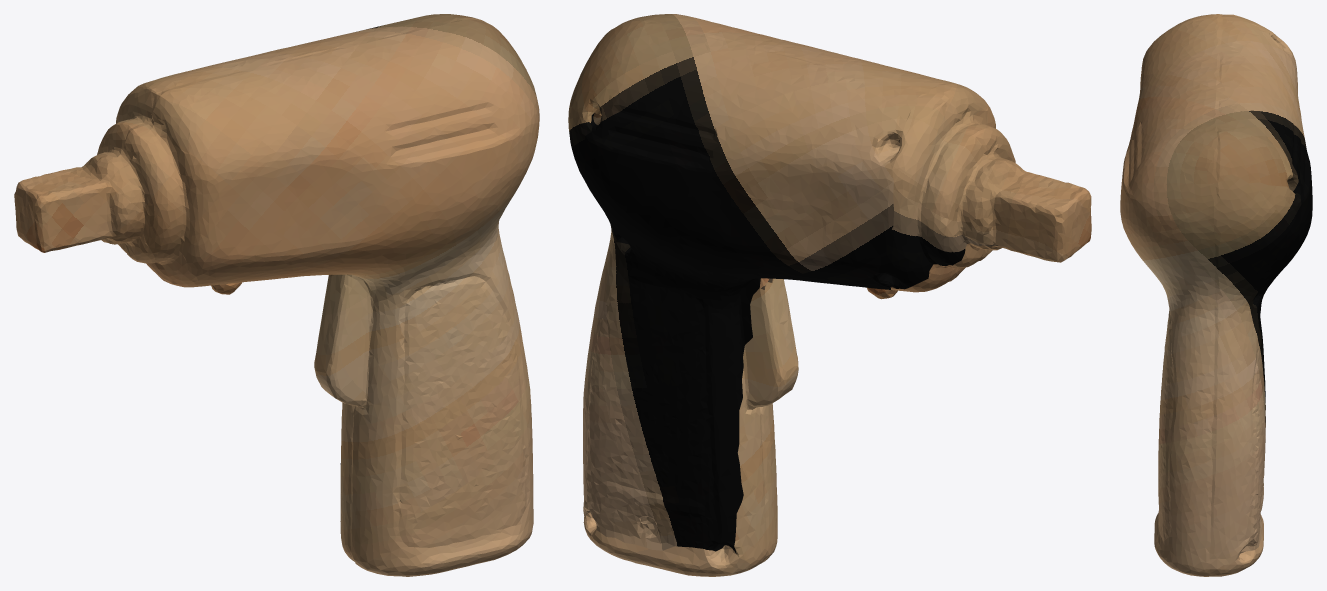
3 renders of one model, left to right at view 1: azimuth 30°, elevation 25°; view 2: azimuth 150°, elevation 25°; view 3: azimuth 270°, elevation 25°, orthographic. The views are drawn at different scales.
Size of the model in its own units: 0.1398 by 0.1413 by 0.0575.
